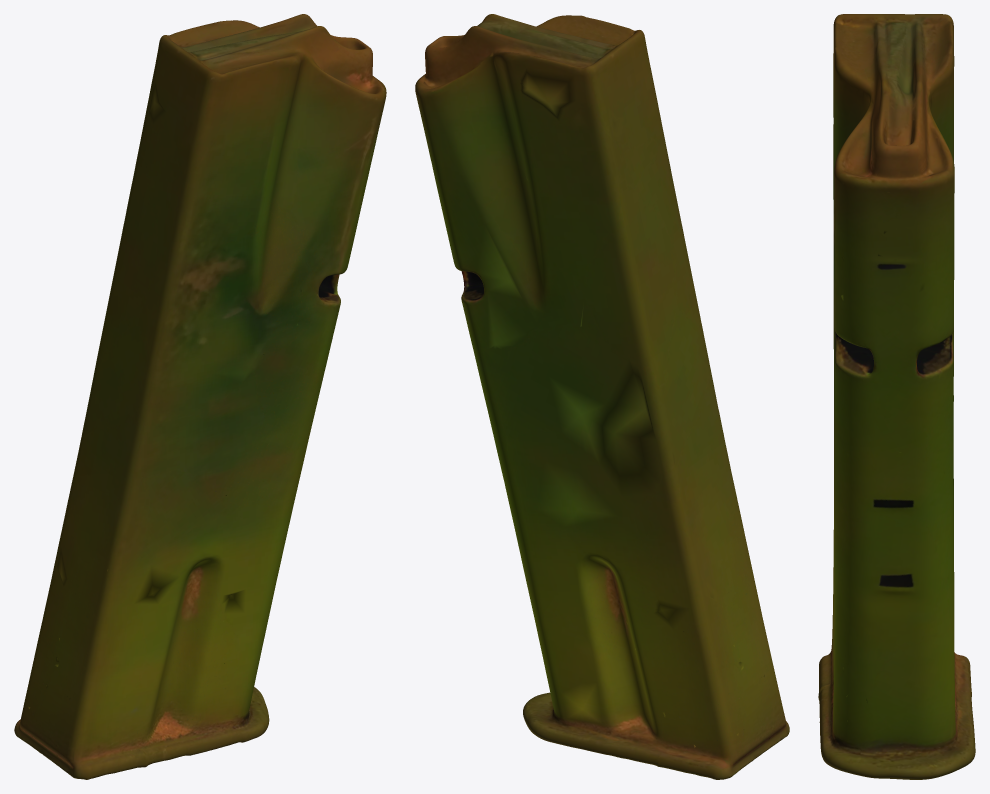
3 renders of one model, left to right at view 1: azimuth 30°, elevation 25°; view 2: azimuth 150°, elevation 25°; view 3: azimuth 270°, elevation 25°, orthographic. The views are drawn at different scales.
Parts seen in each view (by area): view 1: node_0; view 2: node_0; view 3: node_0.
Boxes of the visible parts, x1,y1,x2,y2 form: node_0: (14,14,386,779); node_0: (415,14,789,779); node_0: (818,14,975,779).
Bounding box in the file's own units: 0.5449 × 1.06 × 0.2078.
Materials: 1 (1 with a texture image).
